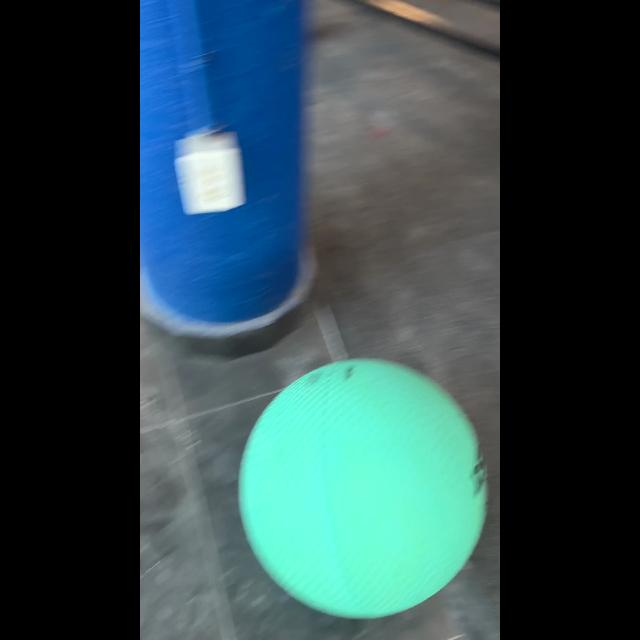ALGAE: (237, 356, 489, 620)
